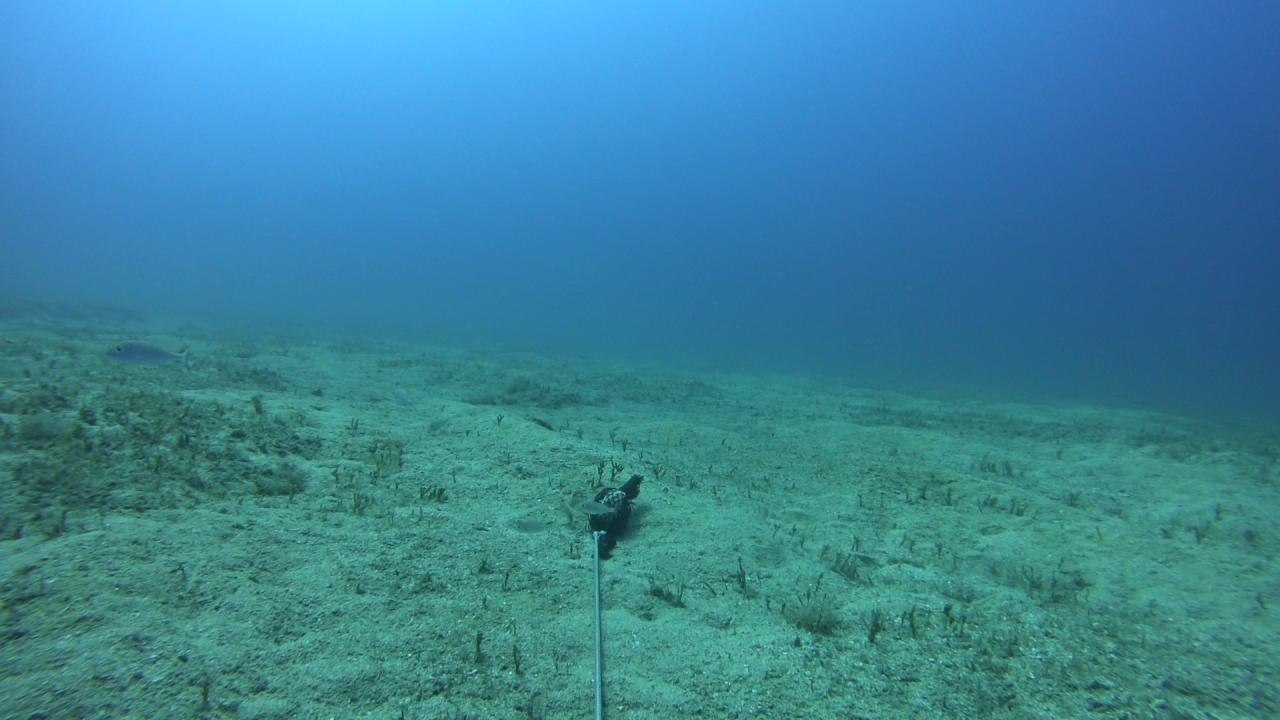pagellus: (101, 339, 192, 375), (512, 517, 559, 539), (578, 502, 619, 516)
